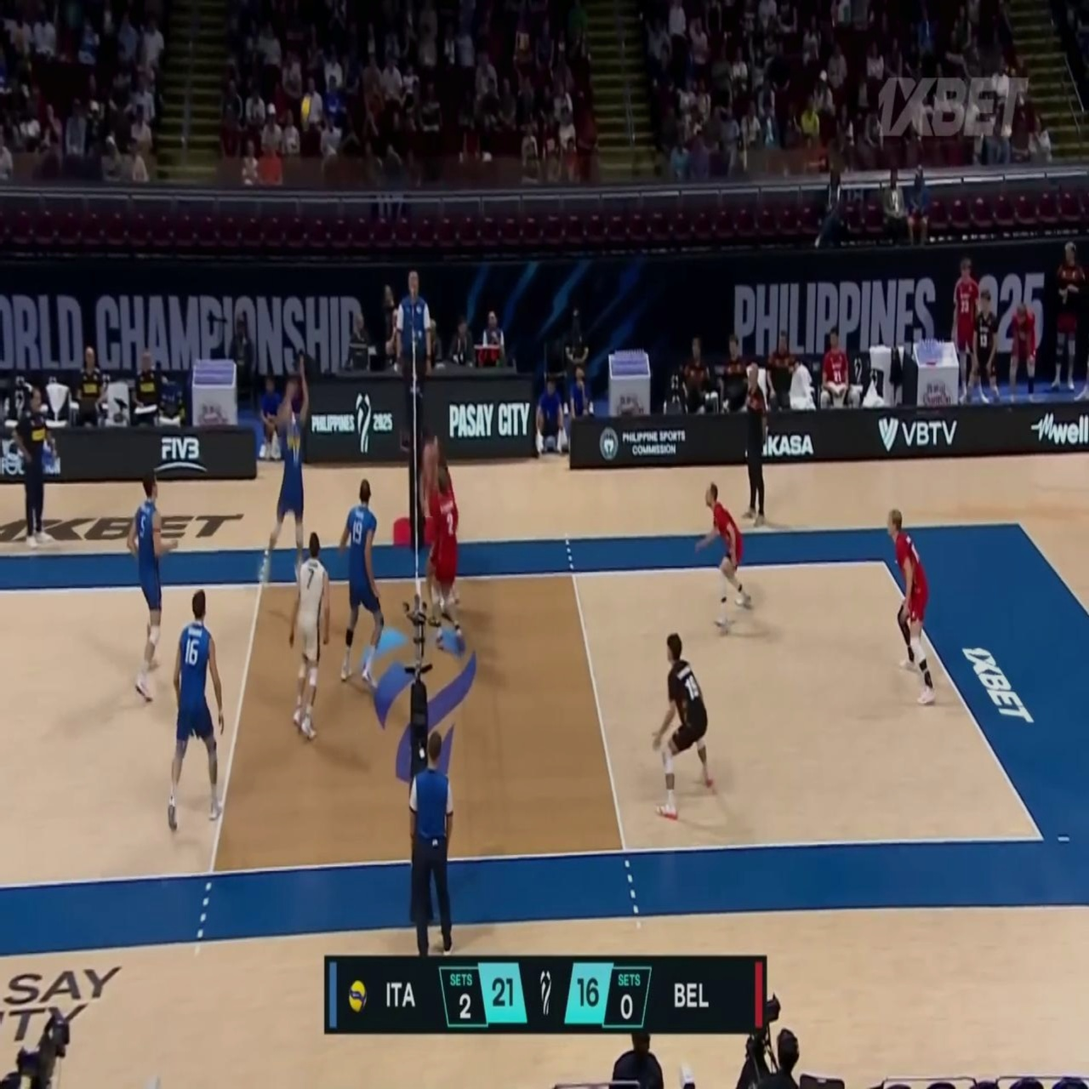ball: (301, 94, 313, 125)
